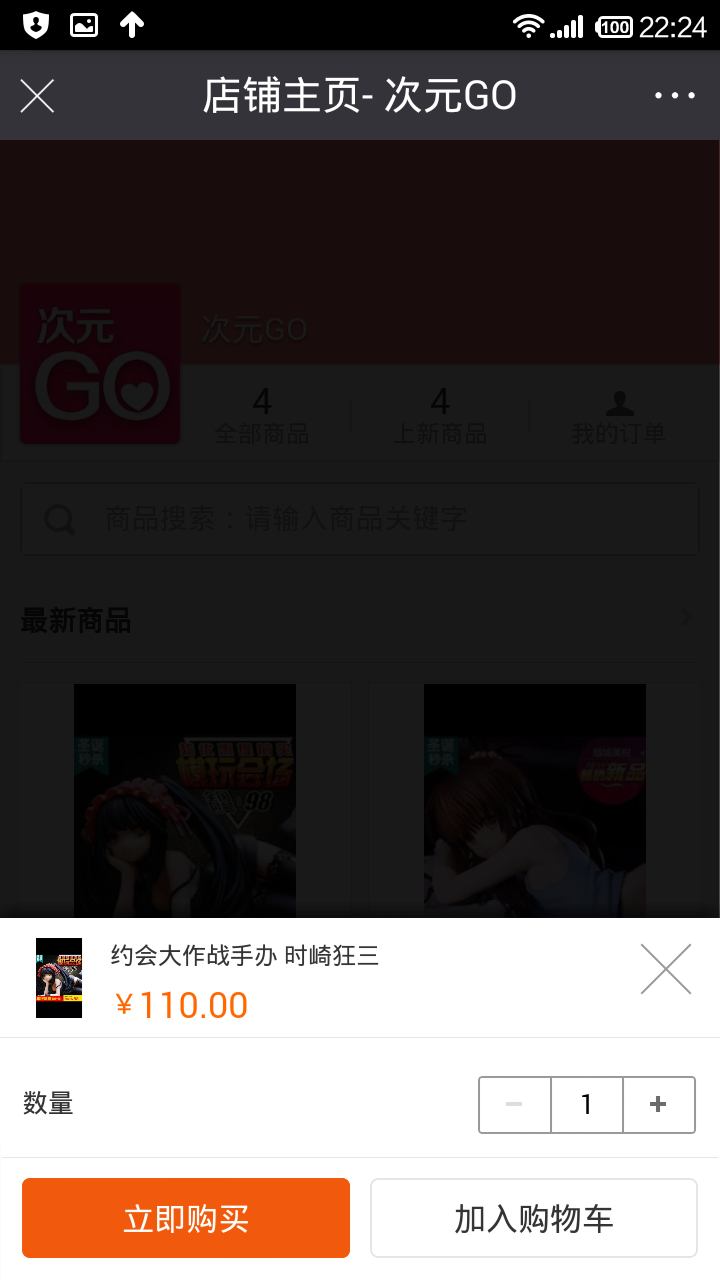button: (10, 1174, 361, 1269), (369, 1171, 711, 1266)
checkboxs: (468, 1064, 707, 1146)
textview: (104, 926, 406, 1023)
